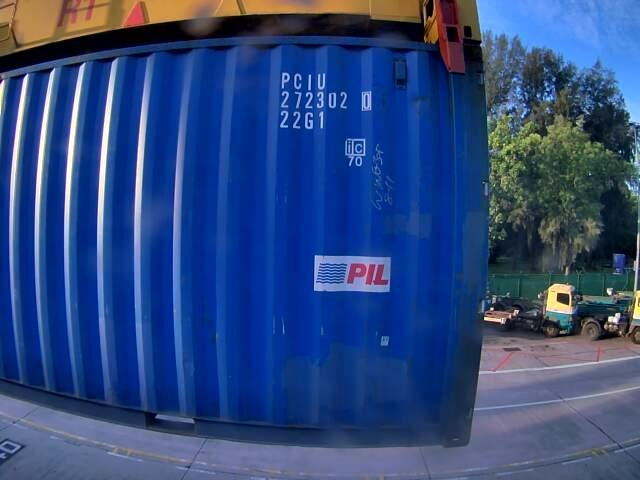container_no_door: (68, 53, 481, 454)
